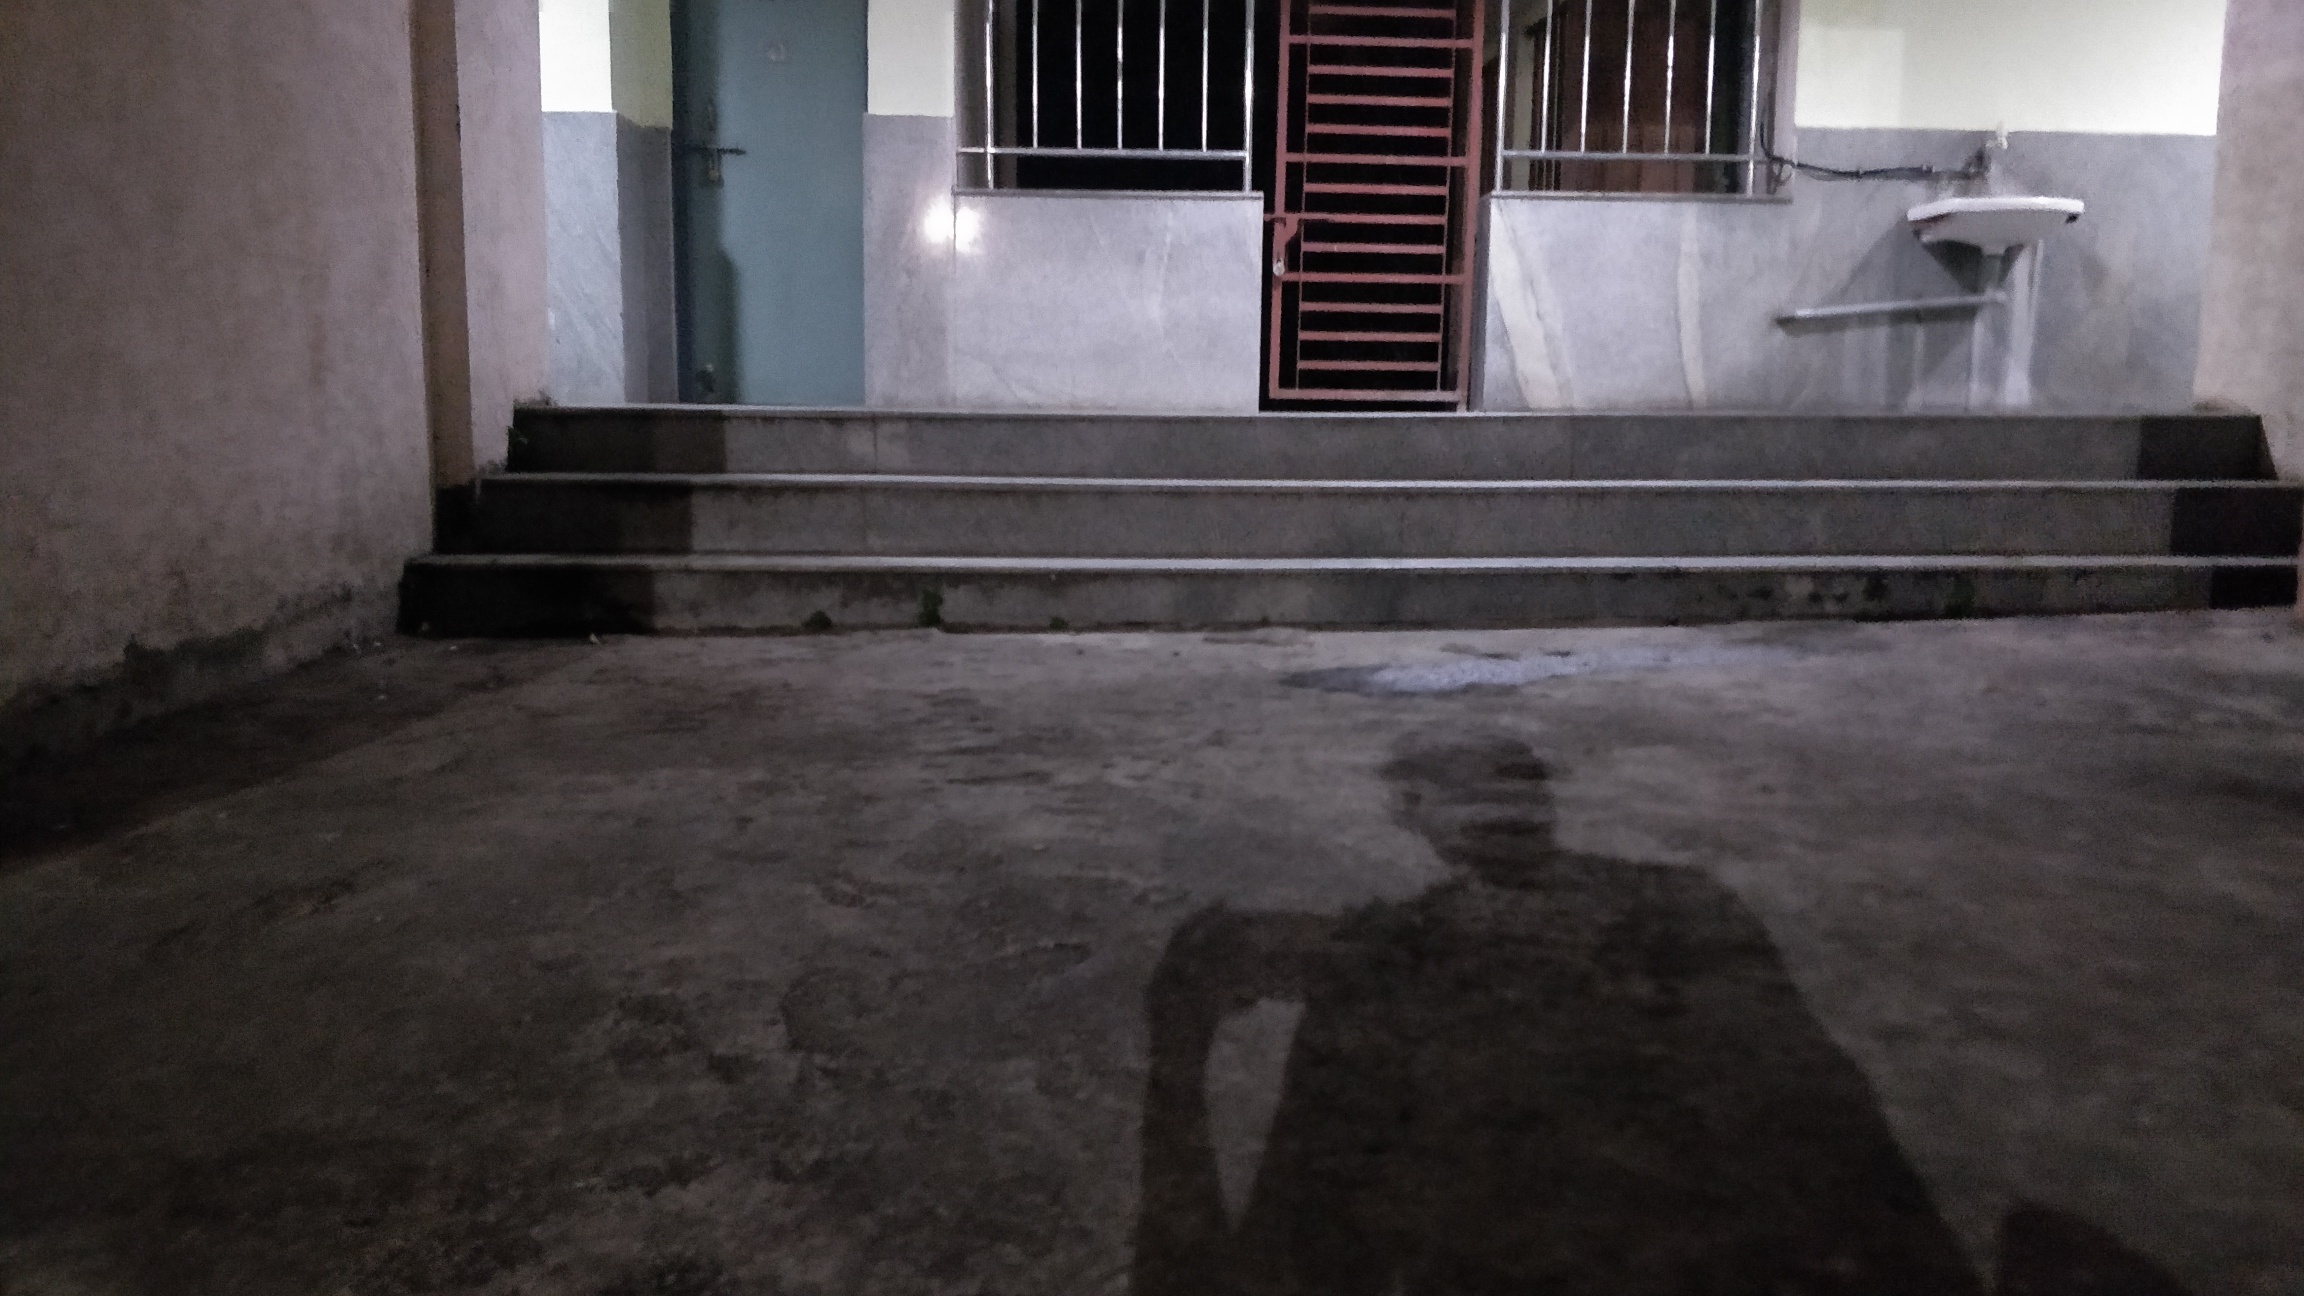stairs_up: (419, 392, 2290, 628)
